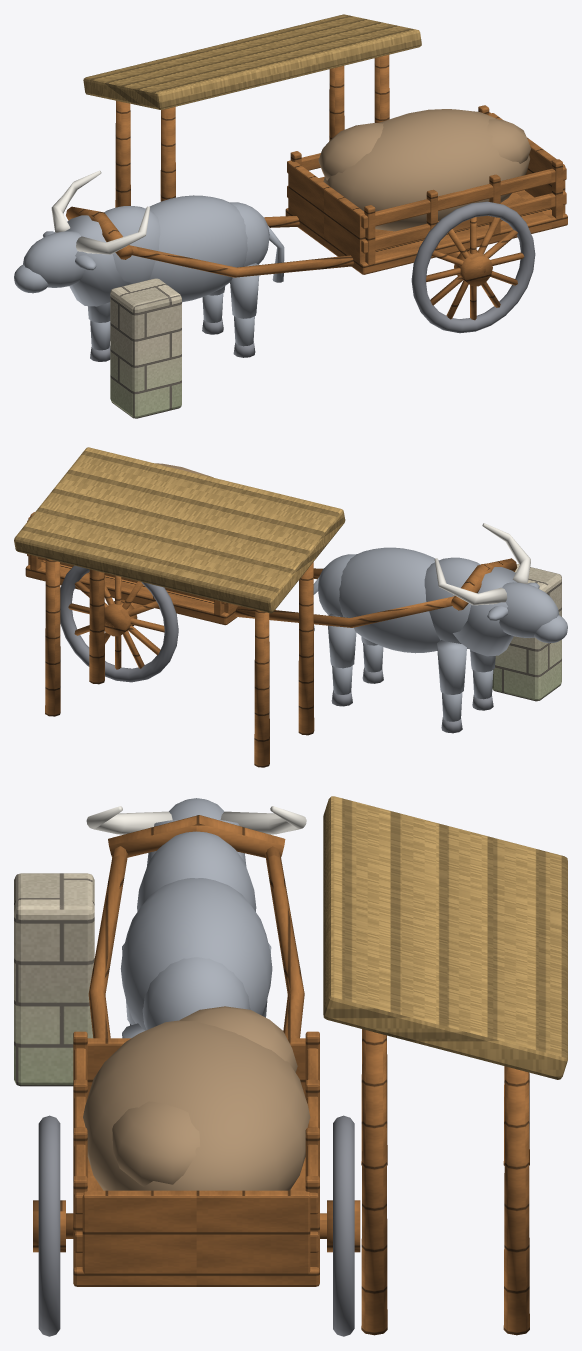
File: map3.glb
3 views of the same model, one above another, from view 1: azimuth 30°, elevation 25°; view 2: azimuth 150°, elevation 25°; view 3: azimuth 270°, elevation 25° (orthographic). The views are drawn at different scales.
Visible parts, largest first — view 1: Batch_CartWood, Batch_CarabaoHide, Batch_RichSoil, Batch_StallNipa, Batch_Milestone, Batch_IronRim, Batch_Horn; view 2: Batch_StallNipa, Batch_CarabaoHide, Batch_CartWood, Batch_IronRim, Batch_Milestone, Batch_Horn; view 3: Batch_CartWood, Batch_StallNipa, Batch_RichSoil, Batch_CarabaoHide, Batch_Milestone, Batch_IronRim, Batch_Horn.
Part boxes in pixels (bbox=[...]): Batch_CartWood: bbox=[66, 54, 567, 320]; Batch_CarabaoHide: bbox=[14, 195, 284, 350]; Batch_RichSoil: bbox=[318, 109, 530, 231]; Batch_StallNipa: bbox=[83, 14, 421, 110]; Batch_Milestone: bbox=[110, 278, 181, 418]; Batch_IronRim: bbox=[90, 201, 535, 361]; Batch_Horn: bbox=[51, 170, 149, 254]; Batch_StallNipa: bbox=[14, 447, 345, 613]; Batch_CarabaoHide: bbox=[313, 547, 567, 721]; Batch_CartWood: bbox=[25, 512, 517, 767]; Batch_IronRim: bbox=[60, 565, 493, 733]; Batch_Milestone: bbox=[492, 564, 561, 701]; Batch_Horn: bbox=[434, 523, 530, 605]; Batch_CartWood: bbox=[33, 815, 529, 1335]; Batch_StallNipa: bbox=[323, 796, 567, 1079]; Batch_RichSoil: bbox=[83, 1006, 310, 1190]; Batch_CarabaoHide: bbox=[120, 798, 272, 1038]; Batch_Milestone: bbox=[14, 873, 94, 1086]; Batch_IronRim: bbox=[38, 1115, 354, 1336]; Batch_Horn: bbox=[86, 806, 306, 834].
Bounding box in the file's own units: 3.94 × 1.67 × 2.34.
7 materials, 3 textured.
